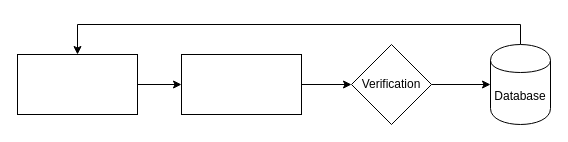
The diagram is 568 pixels wide and 142 high, and some of its shapes have lost their labels. The shapes that lost their labels are listed below. From the top down, each one's centre as x and y in pixels, then its label:
At pixel 77 84: "Employee List".
At pixel 241 84: "Employee Leaving Form".
